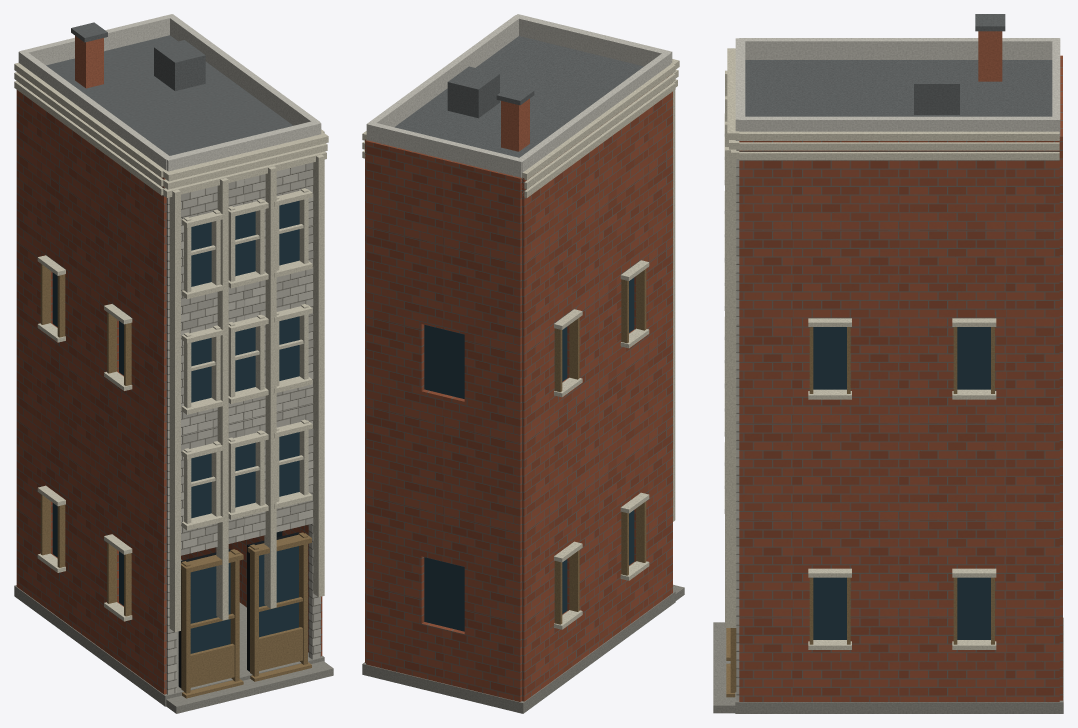
The model's file is OFFC20_lod2.glb.
3 renders of one model, left to right at view 1: azimuth 30°, elevation 25°; view 2: azimuth 150°, elevation 25°; view 3: azimuth 270°, elevation 25°, orthographic. The views are drawn at different scales.
Parts seen in each view (by area): view 1: OFFC20_LOD2; view 2: OFFC20_LOD2; view 3: OFFC20_LOD2.
Part boxes in pixels (<box>): OFFC20_LOD2: <box>14,14,333,713</box>; OFFC20_LOD2: <box>362,14,684,713</box>; OFFC20_LOD2: <box>713,14,1063,713</box>.
Size of the model in its own units: 4.11 by 13.05 by 6.57.
10 materials, 8 textured.
